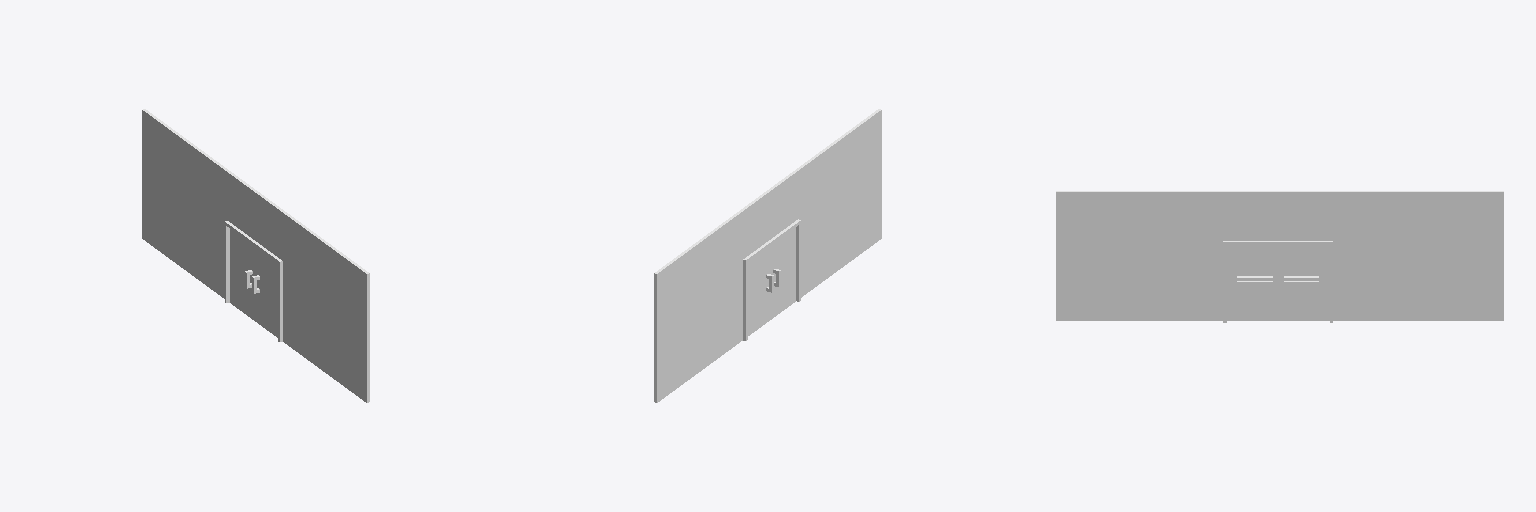
File: LockerRoomDoor.obj
3 renders of one model, left to right at view 1: azimuth 30°, elevation 25°; view 2: azimuth 150°, elevation 25°; view 3: azimuth 270°, elevation 25°, orthographic.
Size of the model in its own units: 5 by 40 by 126.